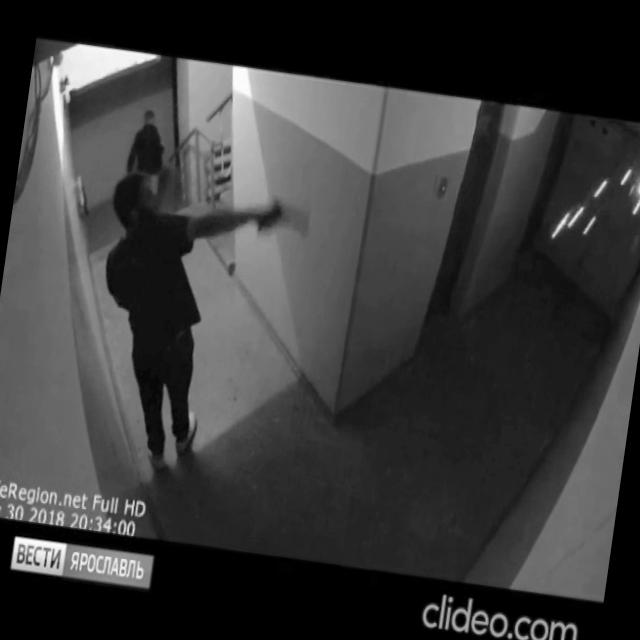gun: (254, 191, 314, 242)
person: (116, 102, 174, 219)
person with a gun: (70, 162, 318, 494)
